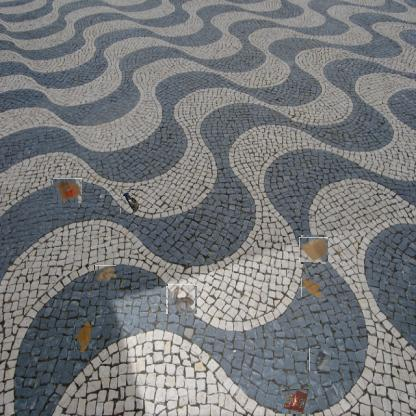dirty: (167, 285, 196, 315), (300, 236, 327, 263), (54, 177, 81, 204), (282, 390, 310, 416), (308, 348, 331, 371), (120, 189, 140, 215), (94, 265, 116, 282)
liquid: (74, 320, 92, 352), (301, 277, 324, 297)
